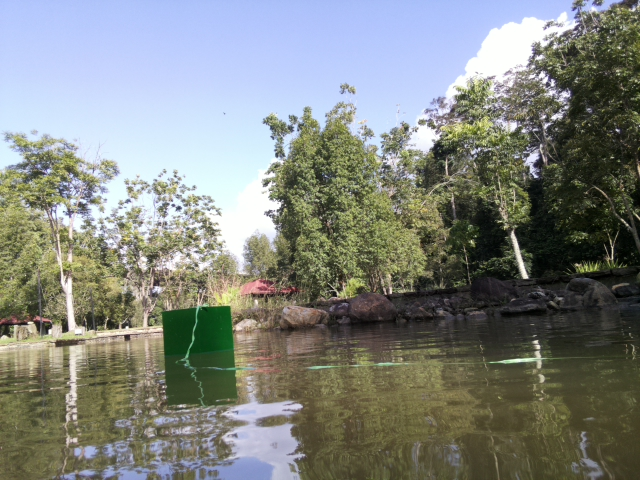obstacle: (160, 303, 234, 353)
